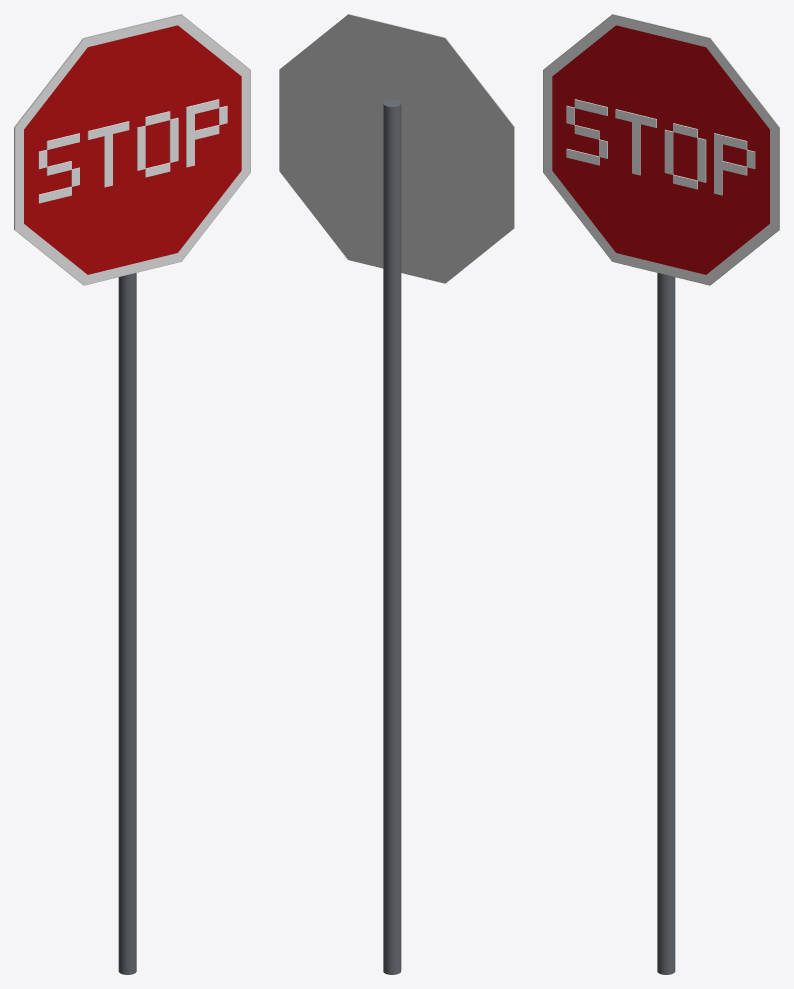
The model's file is stop_sign.obj.
3 views of the same model, side by side, from view 1: azimuth 30°, elevation 25°; view 2: azimuth 150°, elevation 25°; view 3: azimuth 330°, elevation 25° (orthographic).
Visible parts, largest first — view 1: cara_roja, poste, borde, letras, placa; view 2: placa, poste; view 3: cara_roja, poste, borde, letras, placa.
Part boxes in pixels (x1,y1,x2,y2): cara_roja: [24, 25, 241, 274]; poste: [118, 273, 136, 974]; borde: [15, 15, 250, 284]; letras: [38, 99, 227, 203]; placa: [14, 14, 250, 285]; placa: [279, 14, 514, 283]; poste: [383, 99, 401, 974]; cara_roja: [552, 25, 769, 274]; poste: [657, 273, 675, 974]; borde: [543, 15, 778, 284]; letras: [566, 99, 755, 195]; placa: [543, 14, 779, 285].
Bounding box in the file's own units: 0.75 × 2.88 × 0.0566.
